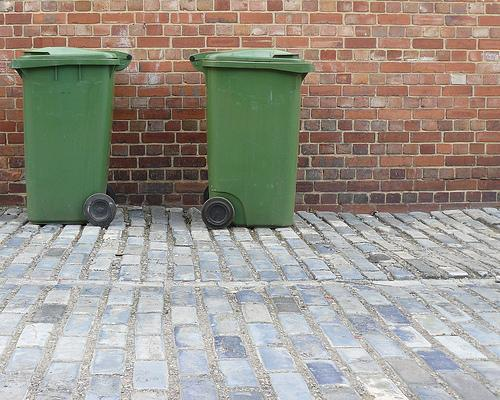Bote de Basura: (11, 40, 131, 228), (198, 43, 309, 232)
